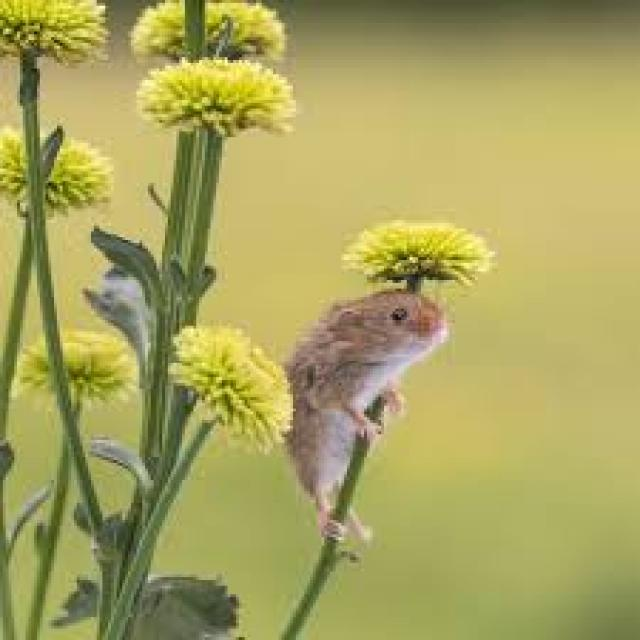rat: (276, 286, 449, 546)
